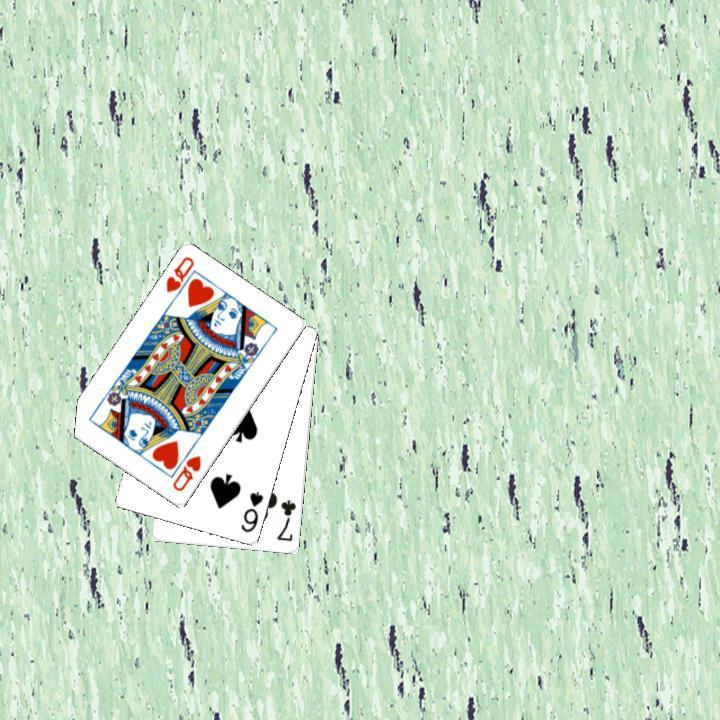6: (237, 487, 266, 535)
7: (273, 496, 298, 544)
Q: (161, 252, 198, 305), (168, 452, 203, 494)
